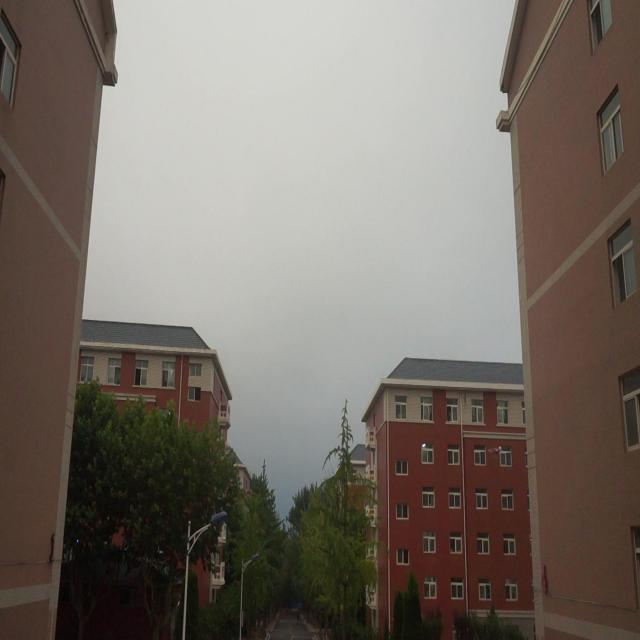UAV: (487, 446, 503, 458)
